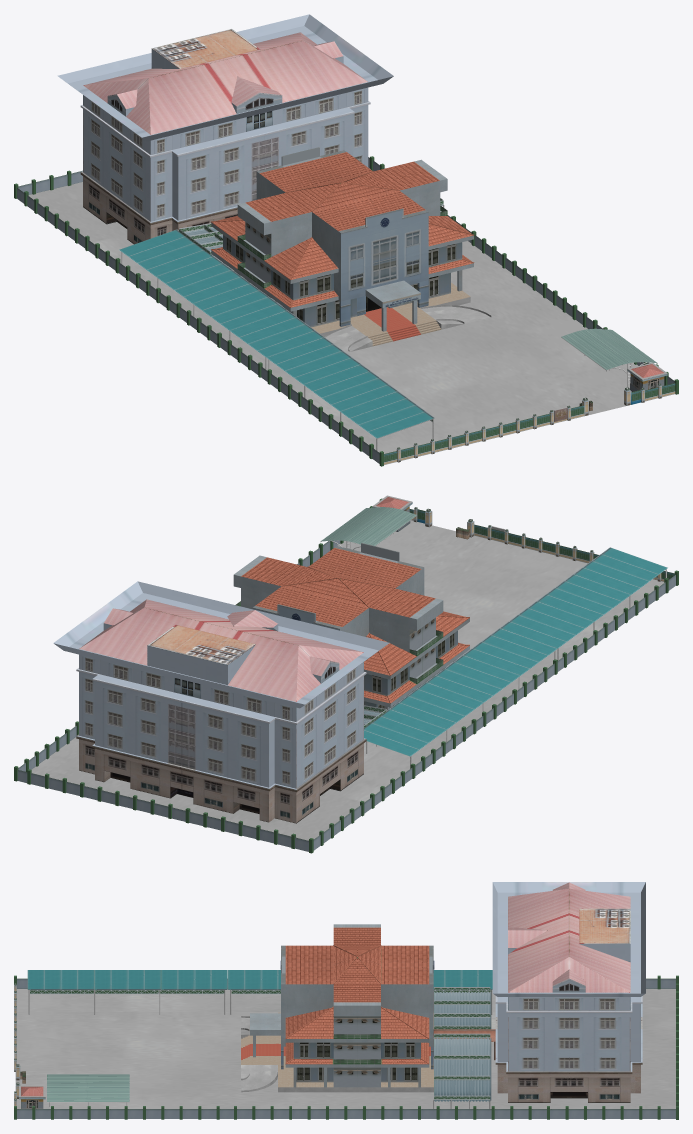
The model's file is Bao hiem xa hoi tinh Binh Phuoc.glb.
3 renders of one model, top to bottom at view 1: azimuth 30°, elevation 25°; view 2: azimuth 150°, elevation 25°; view 3: azimuth 270°, elevation 25°, orthographic. The views are drawn at different scales.
Parts seen in each view (by area): view 1: BPH023_Bao_hiem_xa_hoi_tinh_Binh_Phuoc, BPH023_Bao_hiem_xa_hoi_tinh_Binh_Phuoc_01, BPH023_Bao_hiem_xa_hoi_tinh_Binh_Phuoc_03, BPH023_Bao_hiem_xa_hoi_tinh_Binh_Phuoc_02; view 2: BPH023_Bao_hiem_xa_hoi_tinh_Binh_Phuoc_01, BPH023_Bao_hiem_xa_hoi_tinh_Binh_Phuoc, BPH023_Bao_hiem_xa_hoi_tinh_Binh_Phuoc_03, BPH023_Bao_hiem_xa_hoi_tinh_Binh_Phuoc_02; view 3: BPH023_Bao_hiem_xa_hoi_tinh_Binh_Phuoc, BPH023_Bao_hiem_xa_hoi_tinh_Binh_Phuoc_01, BPH023_Bao_hiem_xa_hoi_tinh_Binh_Phuoc_03, BPH023_Bao_hiem_xa_hoi_tinh_Binh_Phuoc_02.
Part boxes in pixels (box(x1,y1,x2,y2)): BPH023_Bao_hiem_xa_hoi_tinh_Binh_Phuoc: box(28, 147, 638, 453); BPH023_Bao_hiem_xa_hoi_tinh_Binh_Phuoc_01: box(57, 14, 393, 244); BPH023_Bao_hiem_xa_hoi_tinh_Binh_Phuoc_03: box(119, 198, 657, 451); BPH023_Bao_hiem_xa_hoi_tinh_Binh_Phuoc_02: box(14, 156, 678, 466); BPH023_Bao_hiem_xa_hoi_tinh_Binh_Phuoc_01: box(53, 581, 389, 823); BPH023_Bao_hiem_xa_hoi_tinh_Binh_Phuoc: box(31, 520, 664, 840); BPH023_Bao_hiem_xa_hoi_tinh_Binh_Phuoc_03: box(320, 507, 667, 768); BPH023_Bao_hiem_xa_hoi_tinh_Binh_Phuoc_02: box(14, 495, 678, 853); BPH023_Bao_hiem_xa_hoi_tinh_Binh_Phuoc: box(15, 924, 675, 1108); BPH023_Bao_hiem_xa_hoi_tinh_Binh_Phuoc_01: box(433, 882, 645, 1102); BPH023_Bao_hiem_xa_hoi_tinh_Binh_Phuoc_03: box(27, 970, 492, 1108); BPH023_Bao_hiem_xa_hoi_tinh_Binh_Phuoc_02: box(14, 975, 678, 1119).
Size of the model in its own units: 41.95 by 19.63 by 89.51.
4 materials, 4 textured.
